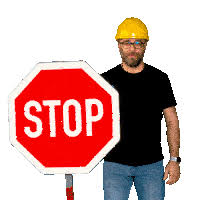stop sign: (7, 61, 122, 177)
